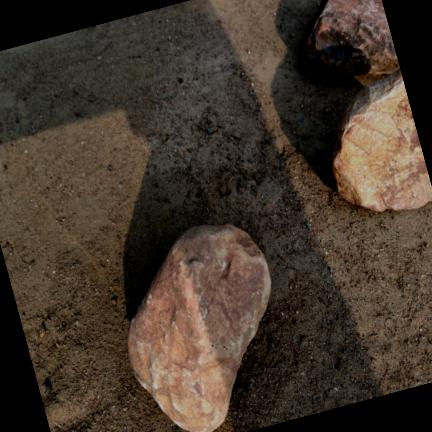Rocks: (127, 225, 270, 431), (331, 69, 431, 211), (303, 0, 399, 79)
